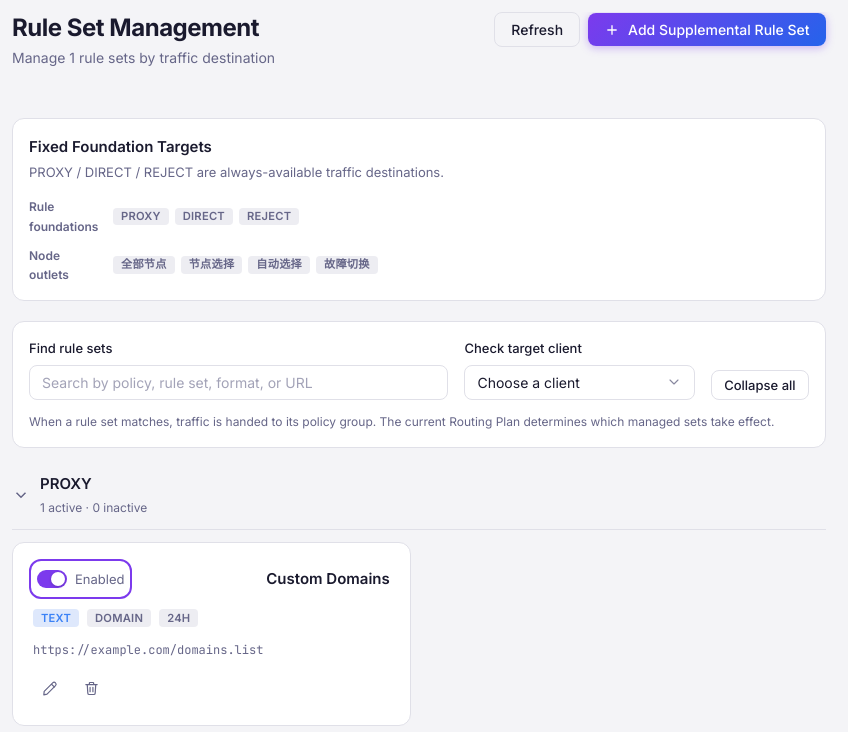
Test case: RemoteRuleSets content validation › blocks repeated toggles while saving and preserves the state on failure
This screenshot has width=848, height=732.
Type keys " "
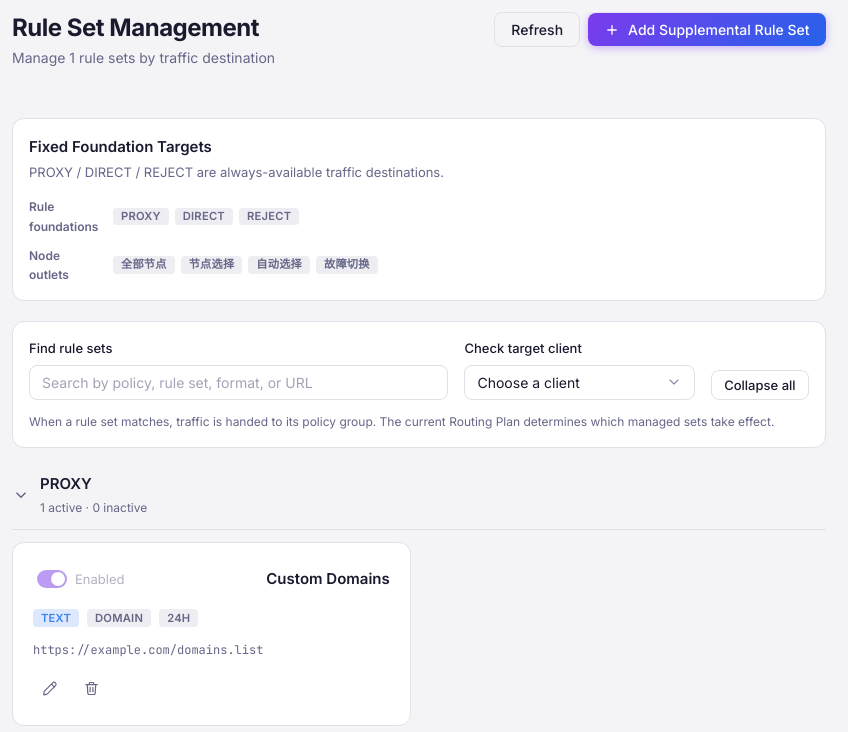
Expected: the switch named "Custom Domains" is disabled
Click the switch named "Custom Domains": (81, 579) left=33, top=563, right=128, bottom=595
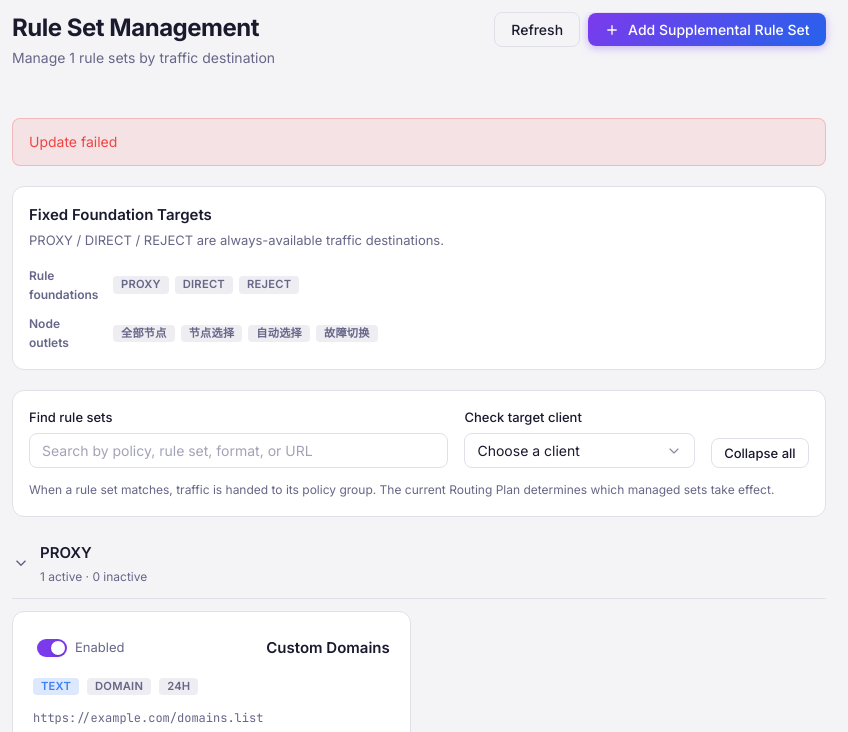
Expected: the switch named "Custom Domains" is checked, left=33, top=632, right=128, bottom=664
Expected: the message reads "Update failed", left=29, top=133, right=117, bottom=150
Expected: the switch named "Custom Domains" is enabled, left=33, top=632, right=128, bottom=664
